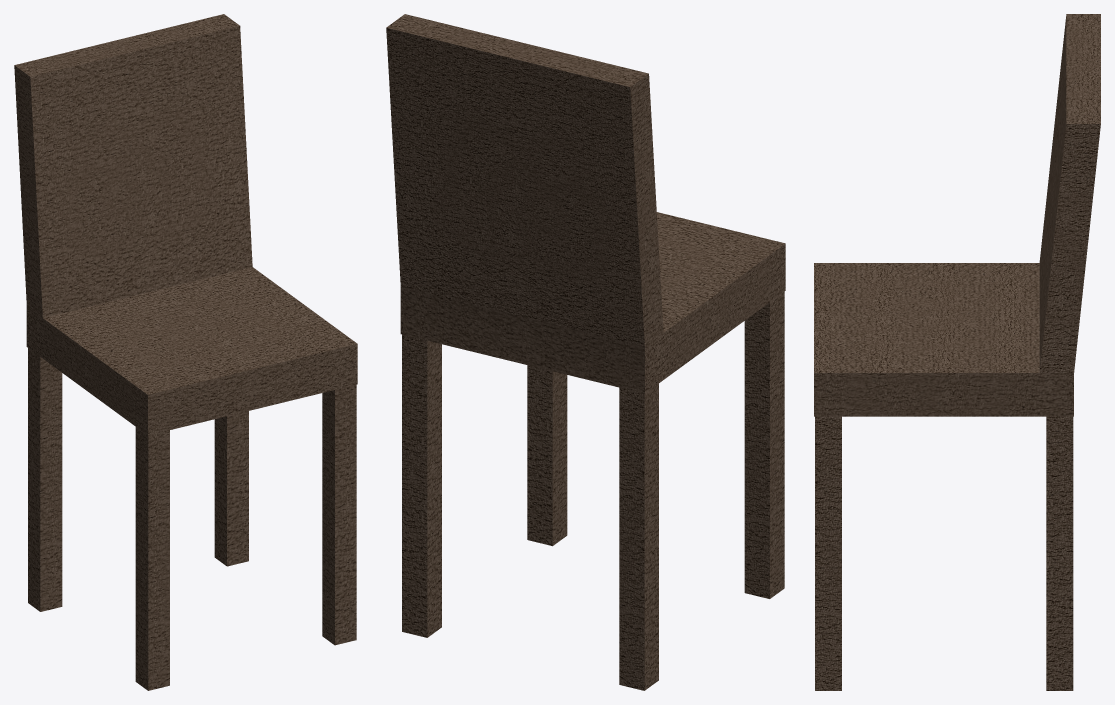
File: Chair.fbx
3 renders of one model, left to right at view 1: azimuth 30°, elevation 25°; view 2: azimuth 150°, elevation 25°; view 3: azimuth 270°, elevation 25°, orthographic. The views are drawn at different scales.
Parts seen in each view (by area): view 1: pCube1; view 2: pCube1; view 3: pCube1.
Part boxes in pixels (<box>): pCube1: <box>14,14,357,690</box>; pCube1: <box>386,14,785,690</box>; pCube1: <box>814,14,1100,690</box>.
Bounding box in the file's own units: 1 × 2.41 × 1.1.
1 material, 1 textured.
